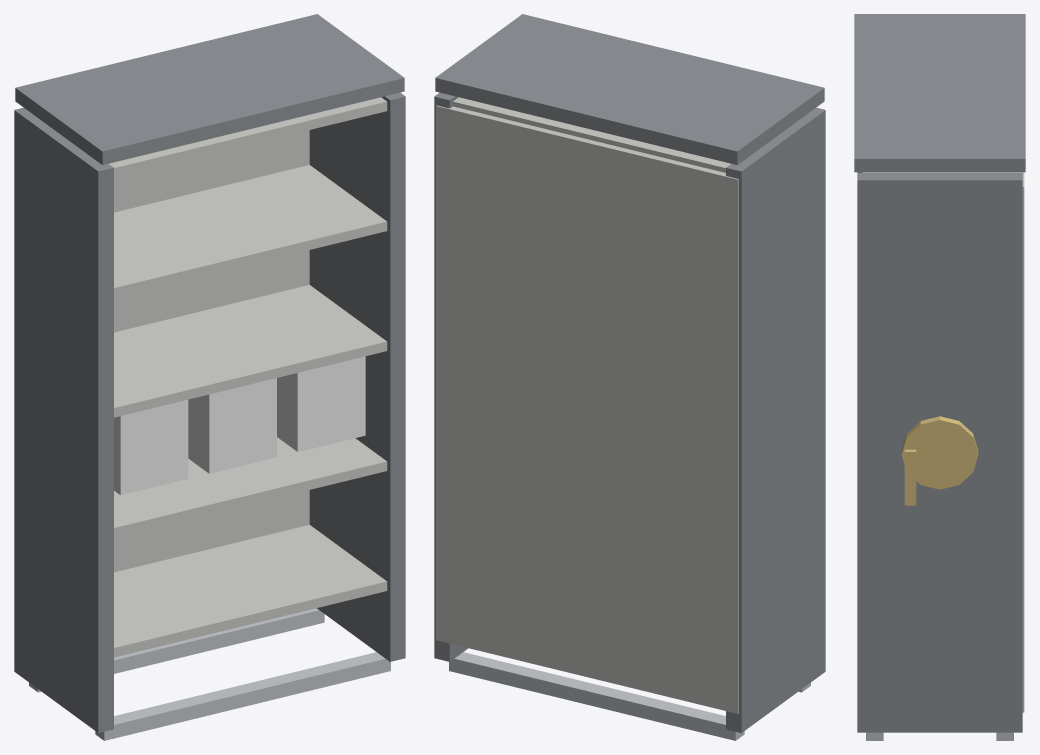
The model's file is P_compact_shelf.fbx.
3 views of the same model, side by side, from view 1: azimuth 30°, elevation 25°; view 2: azimuth 150°, elevation 25°; view 3: azimuth 270°, elevation 25° (orthographic).
Parts seen in each view (by area): view 1: P_compact_shelf; view 2: P_compact_shelf; view 3: P_compact_shelf.
Boxes of the visible parts, x1,y1,x2,y2 form: P_compact_shelf: (14, 14, 405, 740); P_compact_shelf: (434, 14, 825, 740); P_compact_shelf: (854, 14, 1025, 740).
Bounding box in the file's own units: 1.23 × 2.19 × 0.58.
